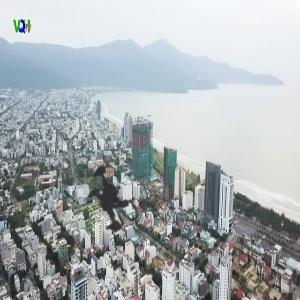drone: (41, 138, 171, 268)
